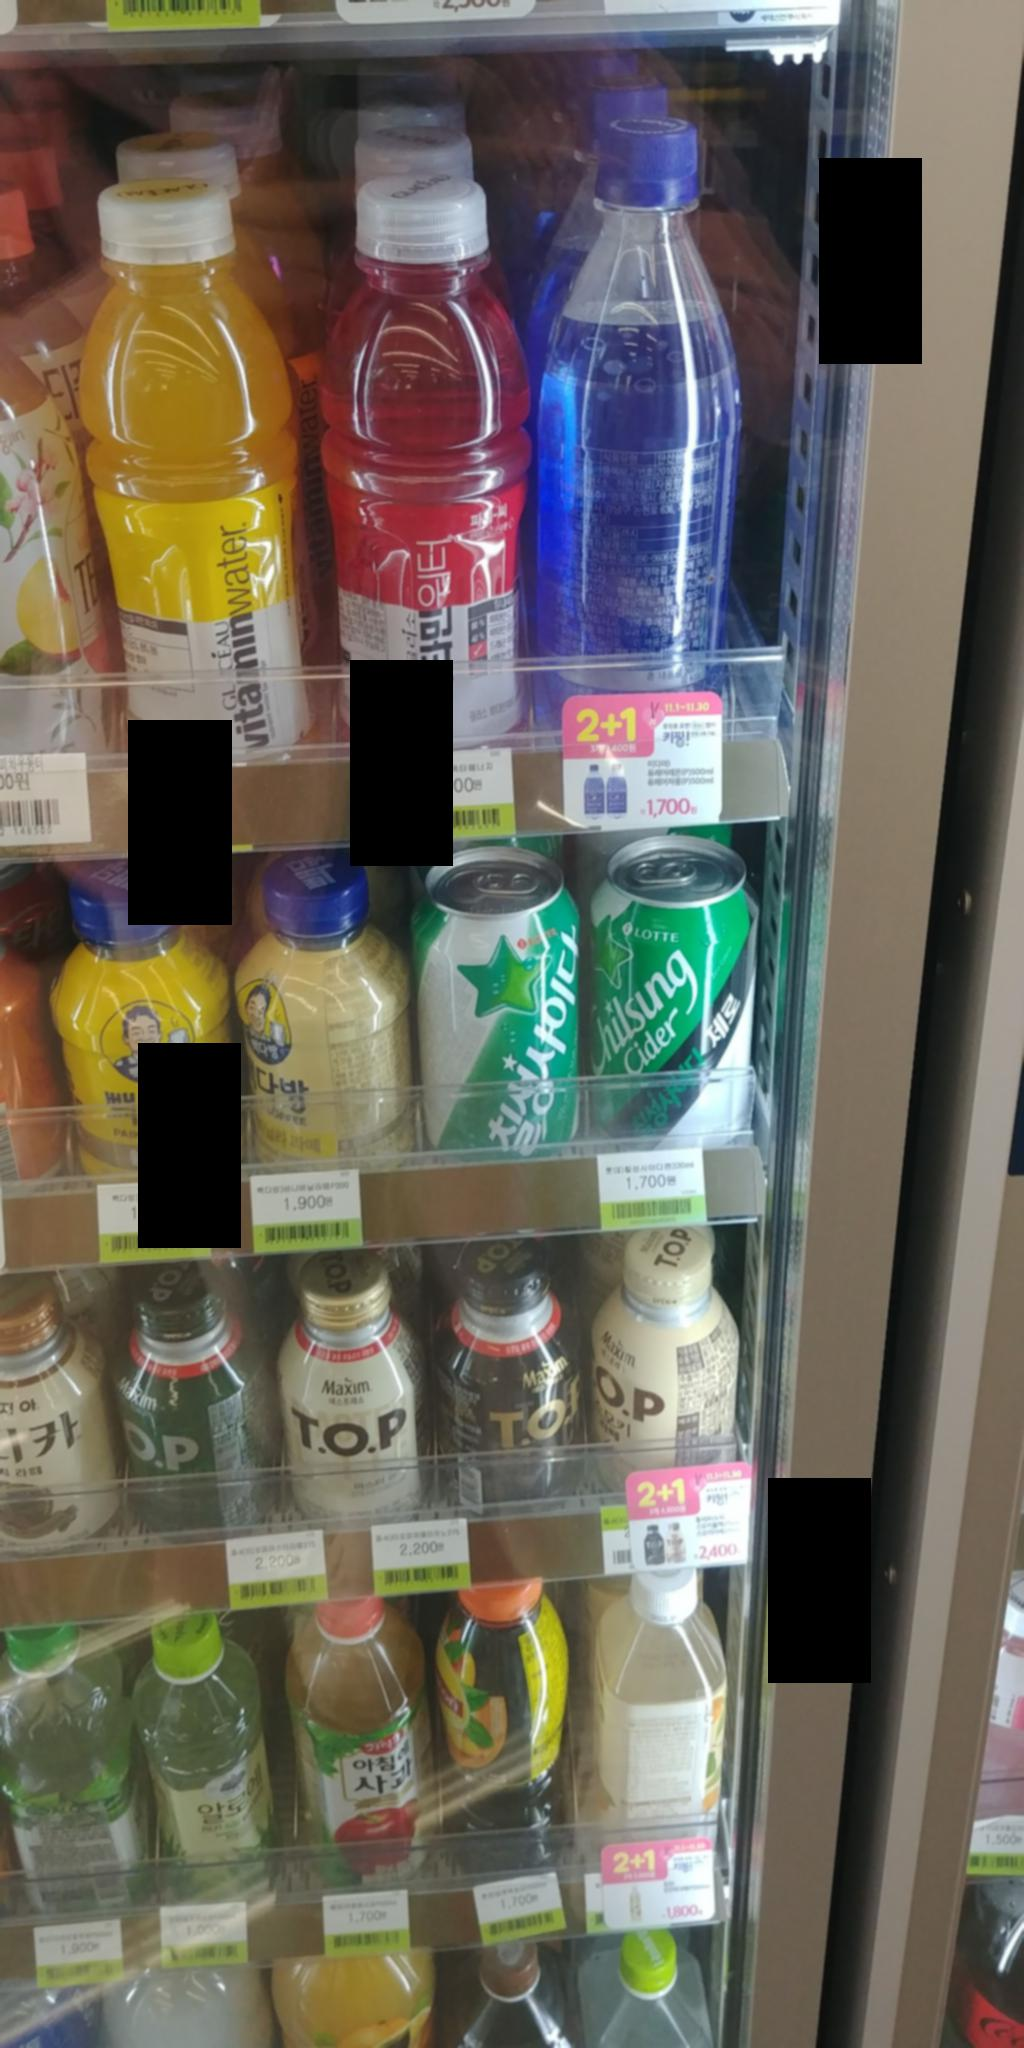TOP_black: (428, 1219, 593, 1518)
chilsungcider: (388, 839, 598, 1173)
